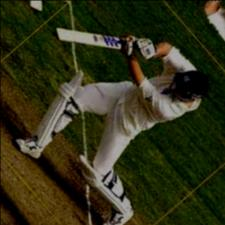batsman: (10, 14, 202, 225)
